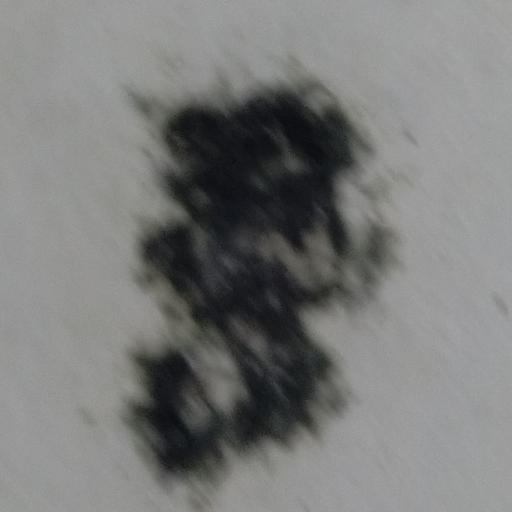algae: (92, 41, 460, 494)
